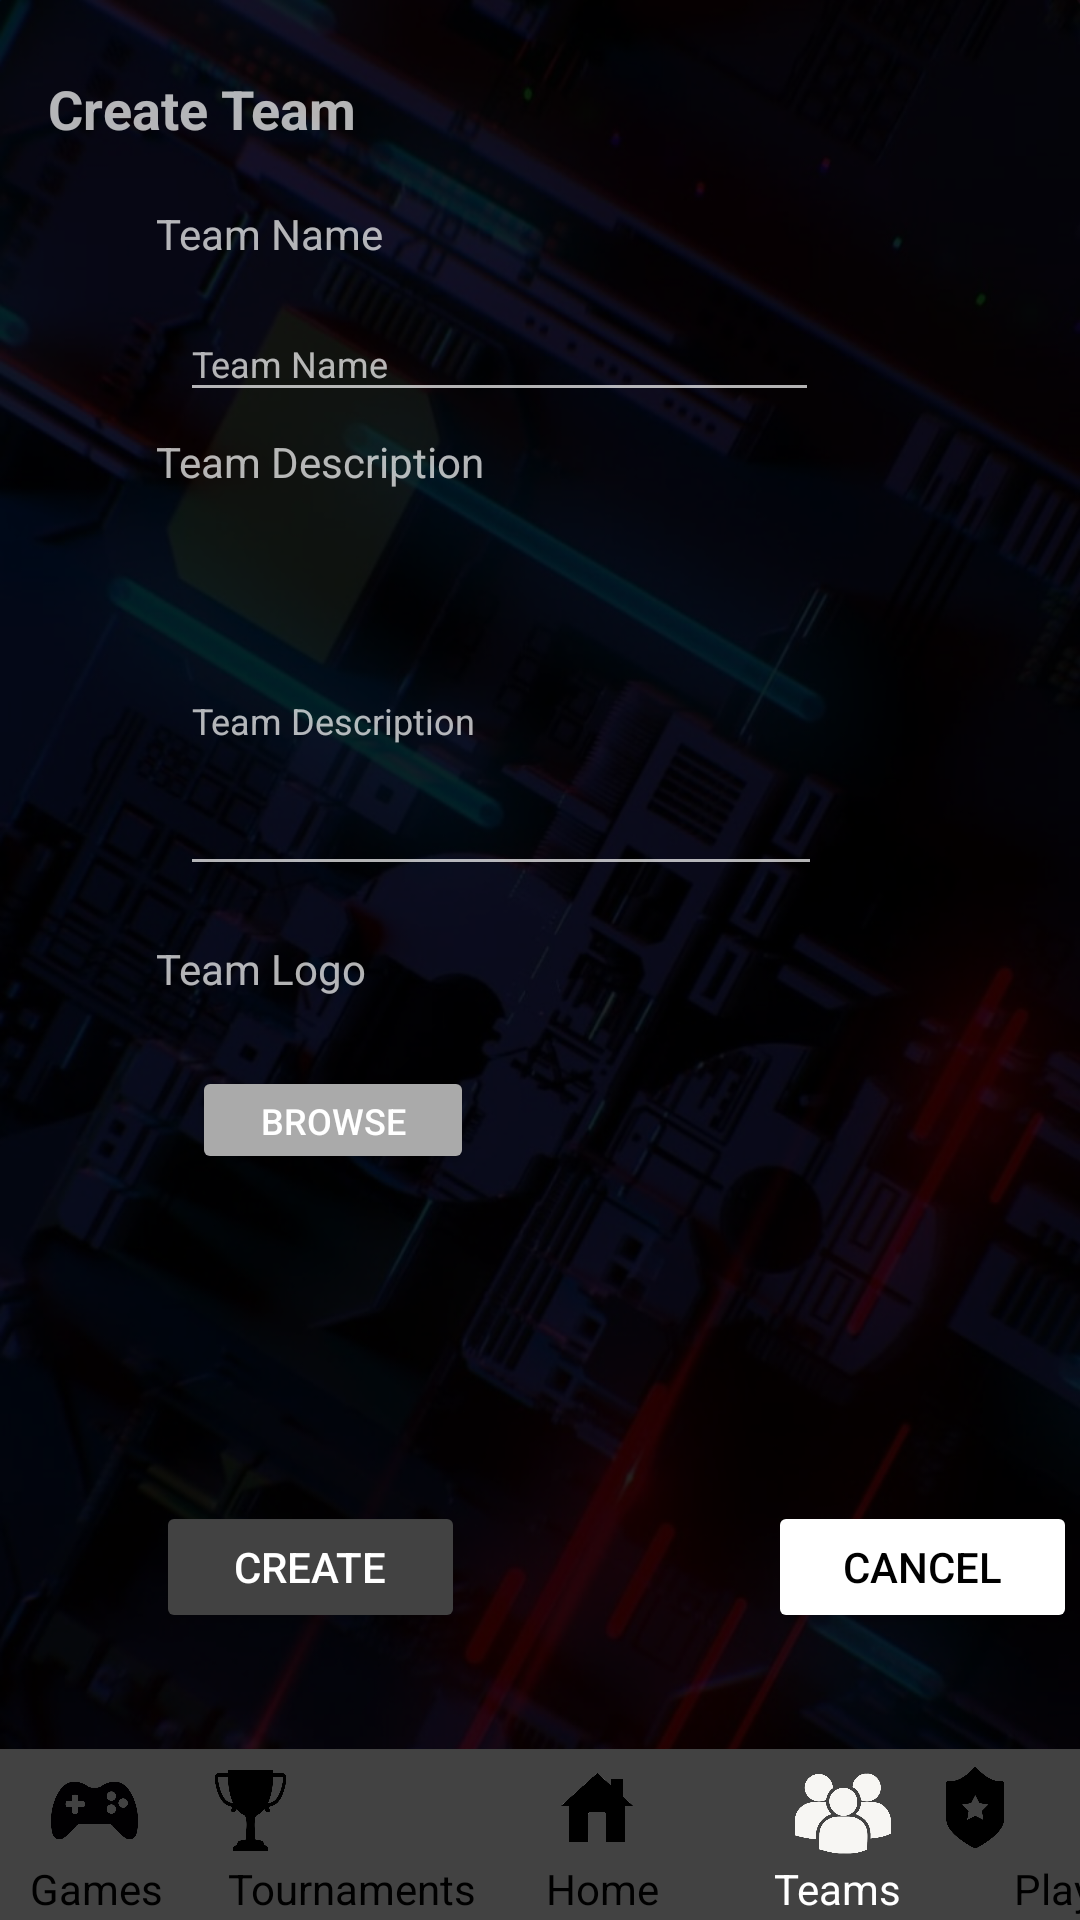

Icons on this 1080px×1920px Android screen, each with the point to tap as point (x, y):
console: point (94, 1810)
cup: point (250, 1810)
rank: point (975, 1807)
